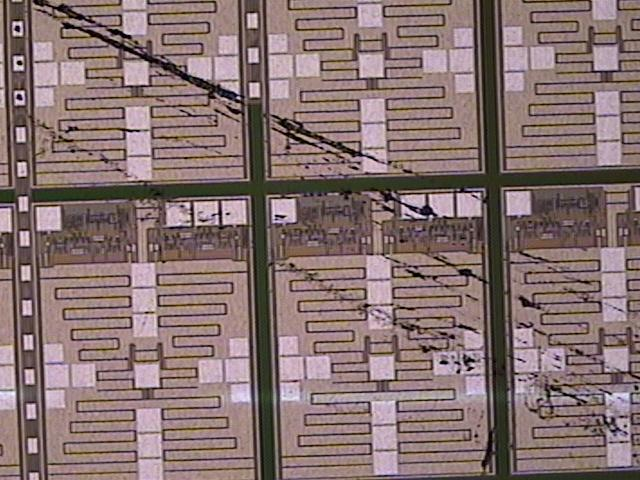SCRATCH: (5, 1, 640, 459)
